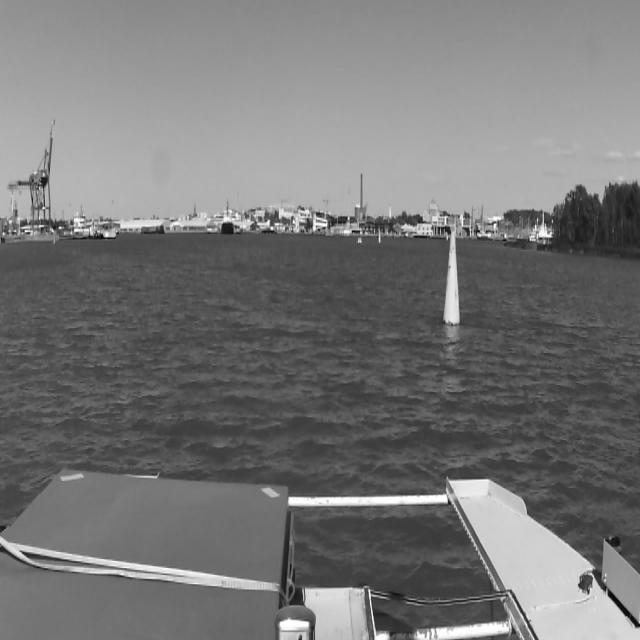buoy: (443, 231, 461, 326), (445, 231, 449, 245), (378, 230, 381, 244)
ship: (198, 206, 260, 236), (222, 200, 234, 235), (357, 237, 363, 246)
